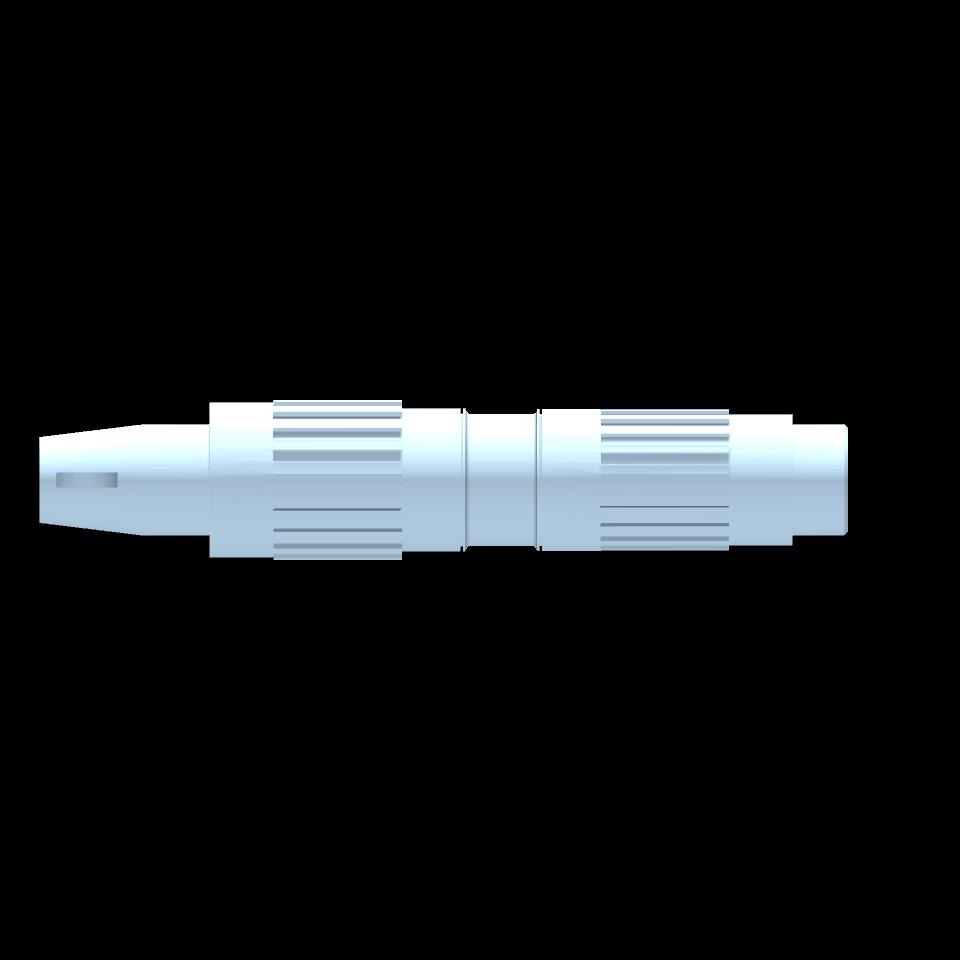Straight: (272, 400, 402, 561), (602, 411, 728, 551)
